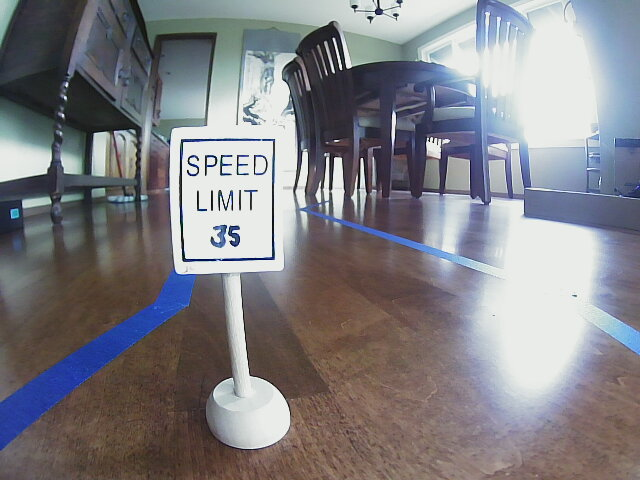SpeedLimit35: (172, 126, 278, 270)
